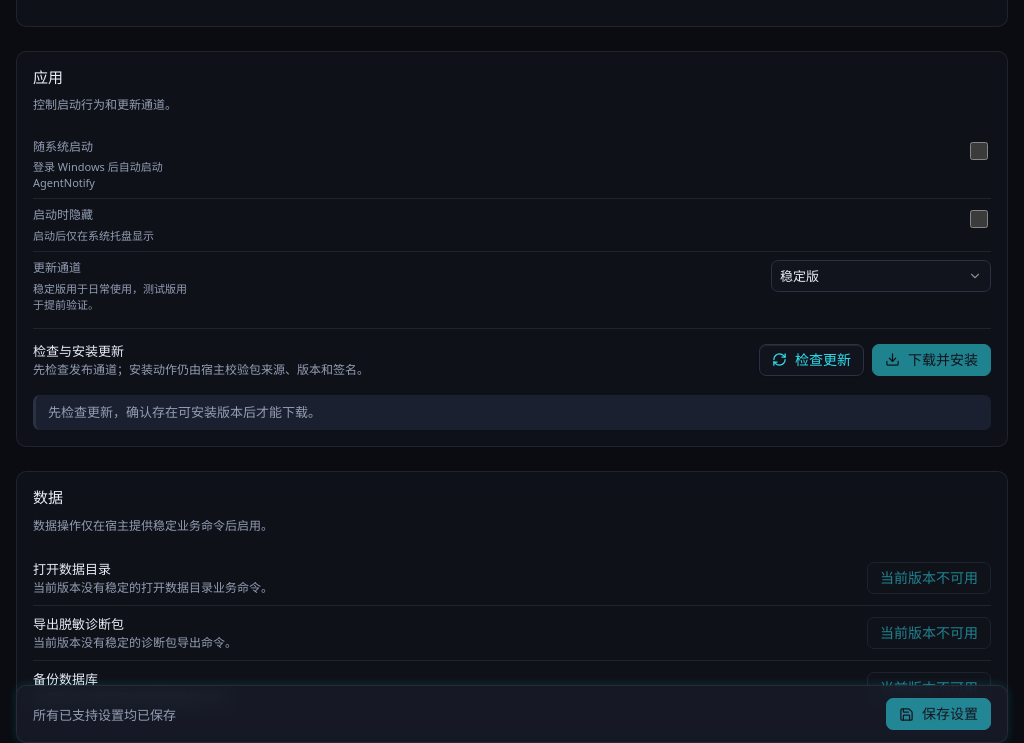
Test: SettingsPage › 发现新版本时可以下载安装并展示后端结果
The width and height of the screenshot is (1024, 743).
(page scrolled)
Click the button "检查更新".
click(812, 360)  # box [759,344,864,376]
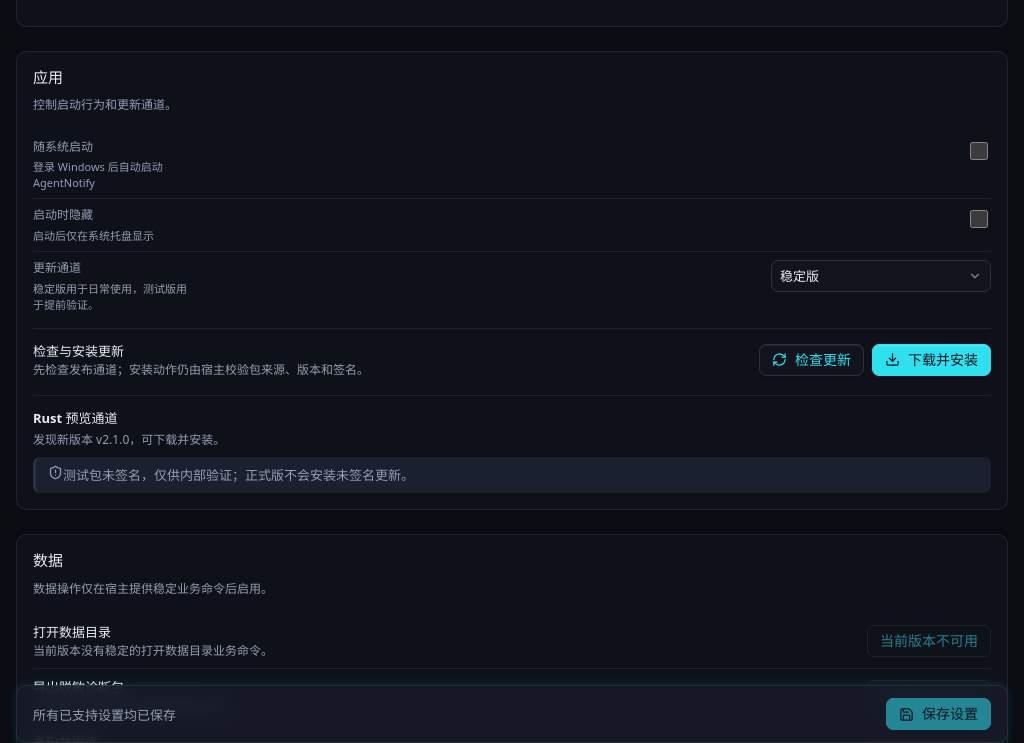
expect the text "发现新版本 v2.1.0，可下载并安装。" is shown: met, box [33,431,225,448]
expect the button "下载并安装" is enabled: met
Click the button "下载并安装".
click(932, 360)  # box [872,344,991,376]
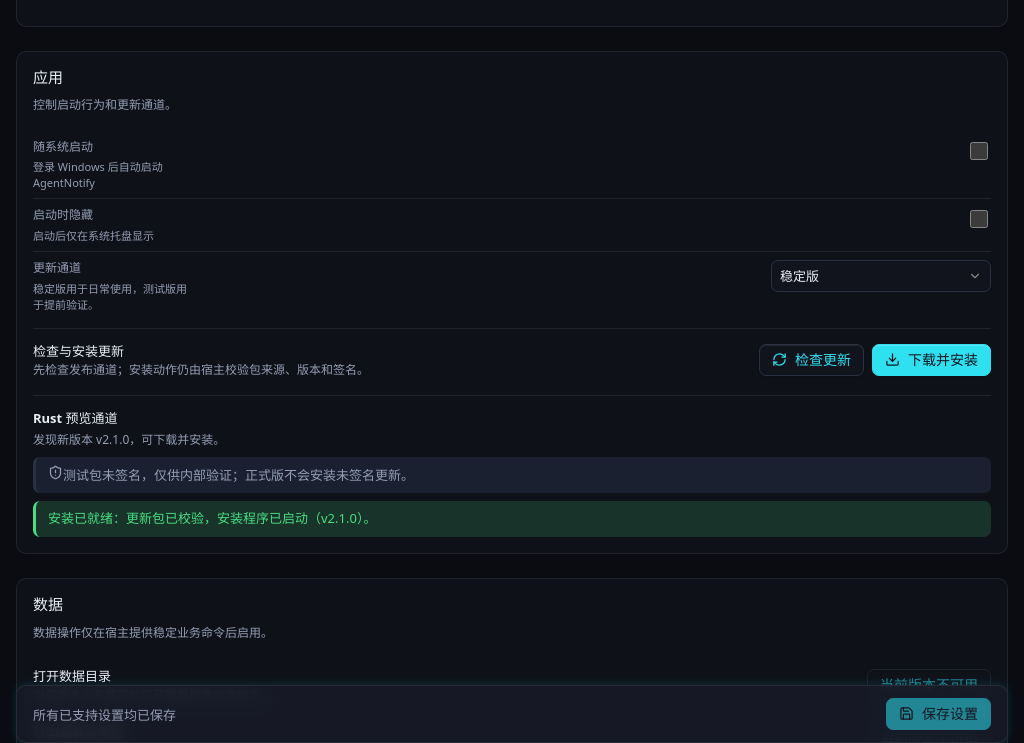
expect the button "下载并安装" is enabled: met, box [872,344,991,376]
expect the text "安装已就绪：更新包已校验，安装程序已启动（v2.1.0）。" is shown: met, box [33,502,991,537]
